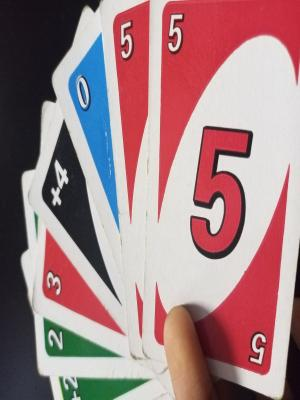-2: (56, 367, 89, 400)
num_0: (72, 64, 95, 118)
num_2: (41, 317, 72, 364)
num_3: (45, 259, 65, 305)
num_5: (241, 315, 273, 379), (111, 10, 142, 69)
wild-4: (37, 157, 76, 218)
